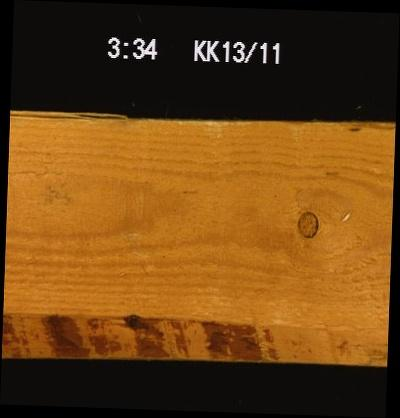dry_knot: (294, 209, 318, 238)
wave: (2, 312, 387, 362), (339, 120, 395, 137)
